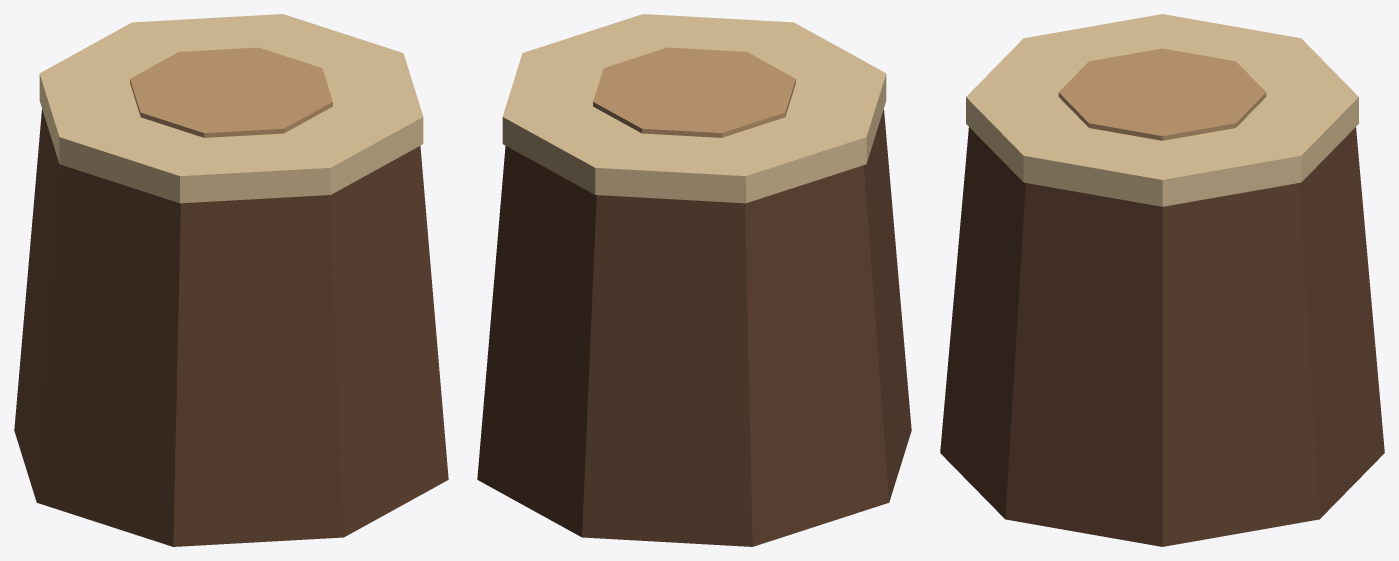
The model's file is deco_stump.obj.
3 views of the same model, side by side, from view 1: azimuth 30°, elevation 25°; view 2: azimuth 150°, elevation 25°; view 3: azimuth 270°, elevation 25° (orthographic).
Visible parts, largest first — view 1: deco_stump; view 2: deco_stump; view 3: deco_stump.
Boxes of the visible parts, x1,y1,x2,y2 form: deco_stump: [14, 14, 448, 546]; deco_stump: [477, 14, 911, 546]; deco_stump: [940, 14, 1384, 546].
Size of the model in its own units: 0.06 by 0.0537 by 0.06.
Materials: 1 (1 with a texture image).
